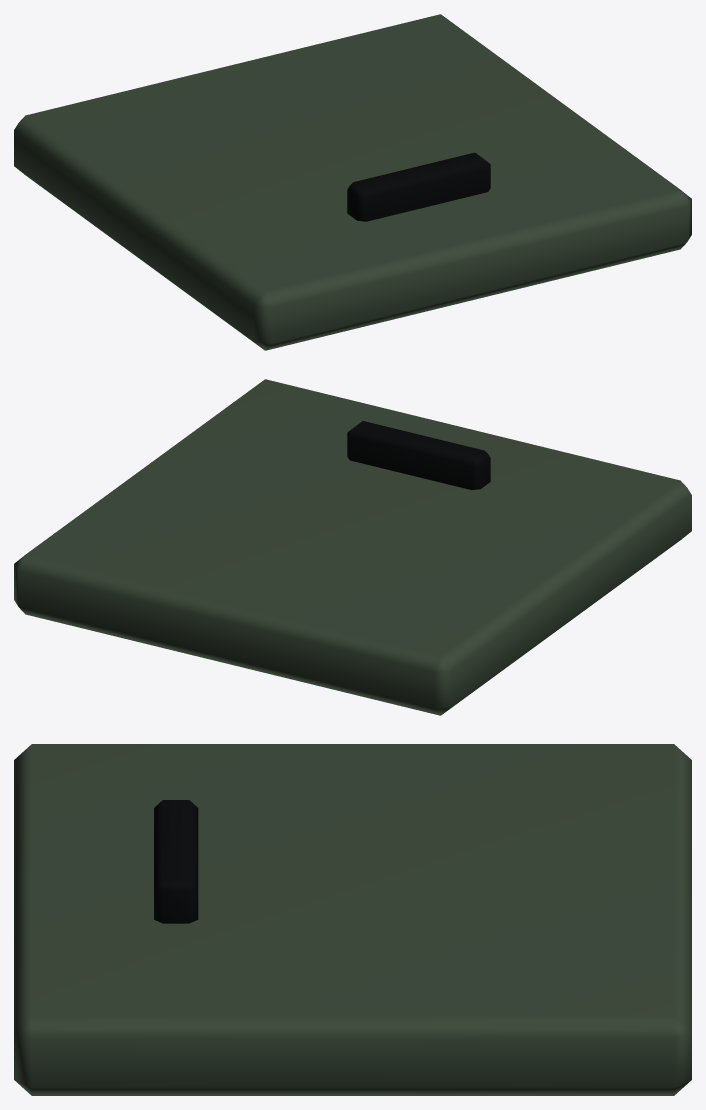
File: debris-bin-lid.glb
The picture shows the model from 3 angles, top to bottom: view 1: azimuth 30°, elevation 25°; view 2: azimuth 150°, elevation 25°; view 3: azimuth 270°, elevation 25°; orthographic projection. The views are drawn at different scales.
Parts seen in each view (by area): view 1: debris-bin-lid; view 2: debris-bin-lid; view 3: debris-bin-lid.
Part boxes in pixels (<box>): debris-bin-lid: <box>14,14,691,350</box>; debris-bin-lid: <box>14,379,691,715</box>; debris-bin-lid: <box>14,744,691,1095</box>.
Bounding box in the file's own units: 0.46 × 0.09 × 0.46.
Materials: 1 (1 with a texture image).
